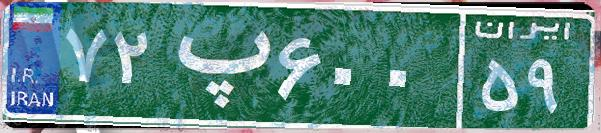0: (385, 28, 445, 110), (330, 28, 385, 110)
2: (110, 28, 158, 105)
5: (475, 38, 525, 113)
6: (273, 28, 330, 110)
7: (57, 26, 110, 107)
9: (525, 38, 570, 115)
پ: (158, 15, 273, 115)
